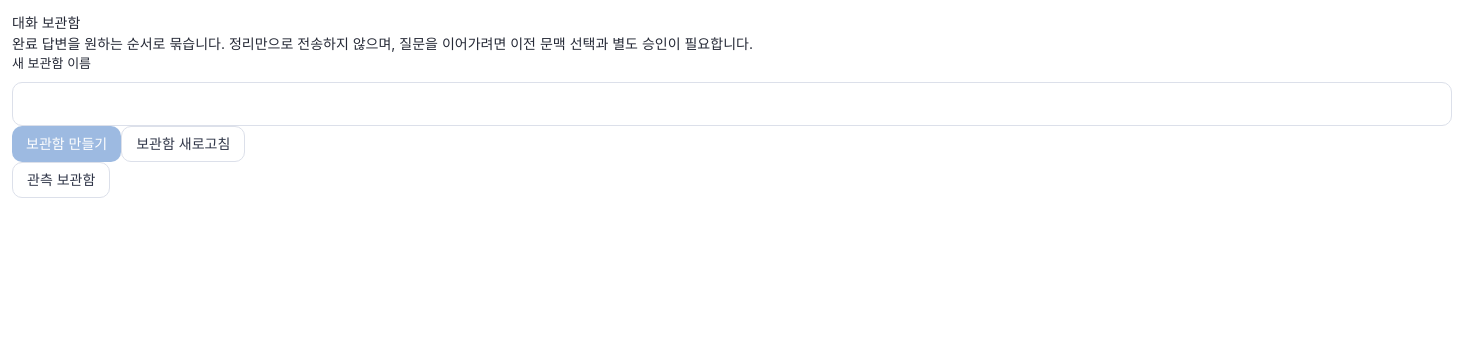
Test case: 이름을 입력해 명시적으로 생성하며 전송 승인은 만들지 않는다
Expected: the button "관측 보관함" is shown, top-left (12, 162), bottom-right (110, 198)
In the field labelled "새 보관함 이름": (732, 104) top-left (12, 82), bottom-right (1452, 126), type "새 보관함"
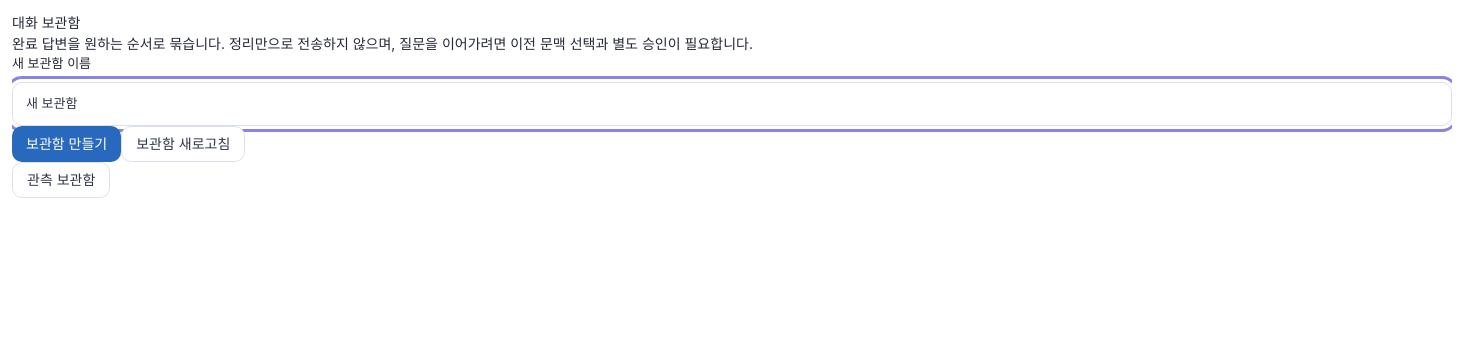
Click the button "보관함 만들기": (67, 144) top-left (12, 126), bottom-right (121, 162)
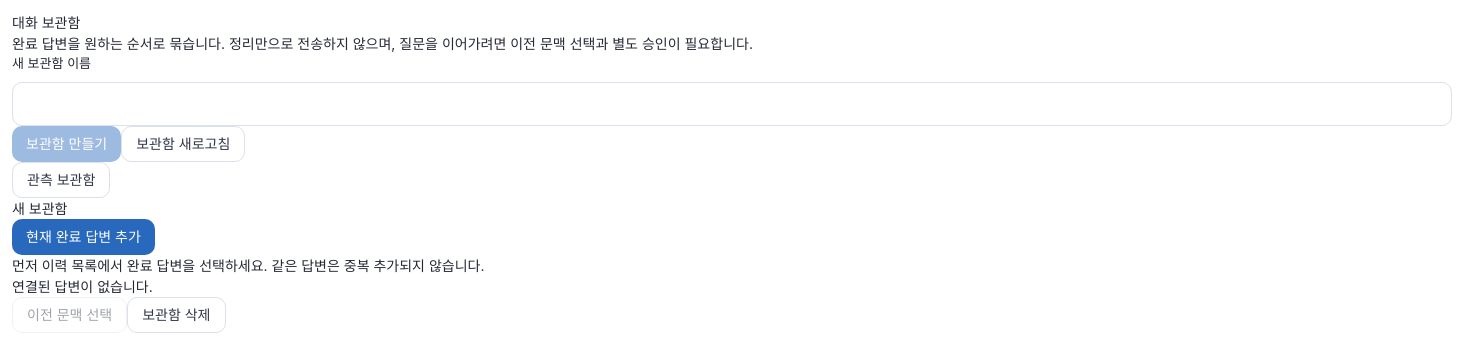
Result: the element named "선택한 보관함" shows "새 보관함" at top-left (12, 200), bottom-right (68, 216)
